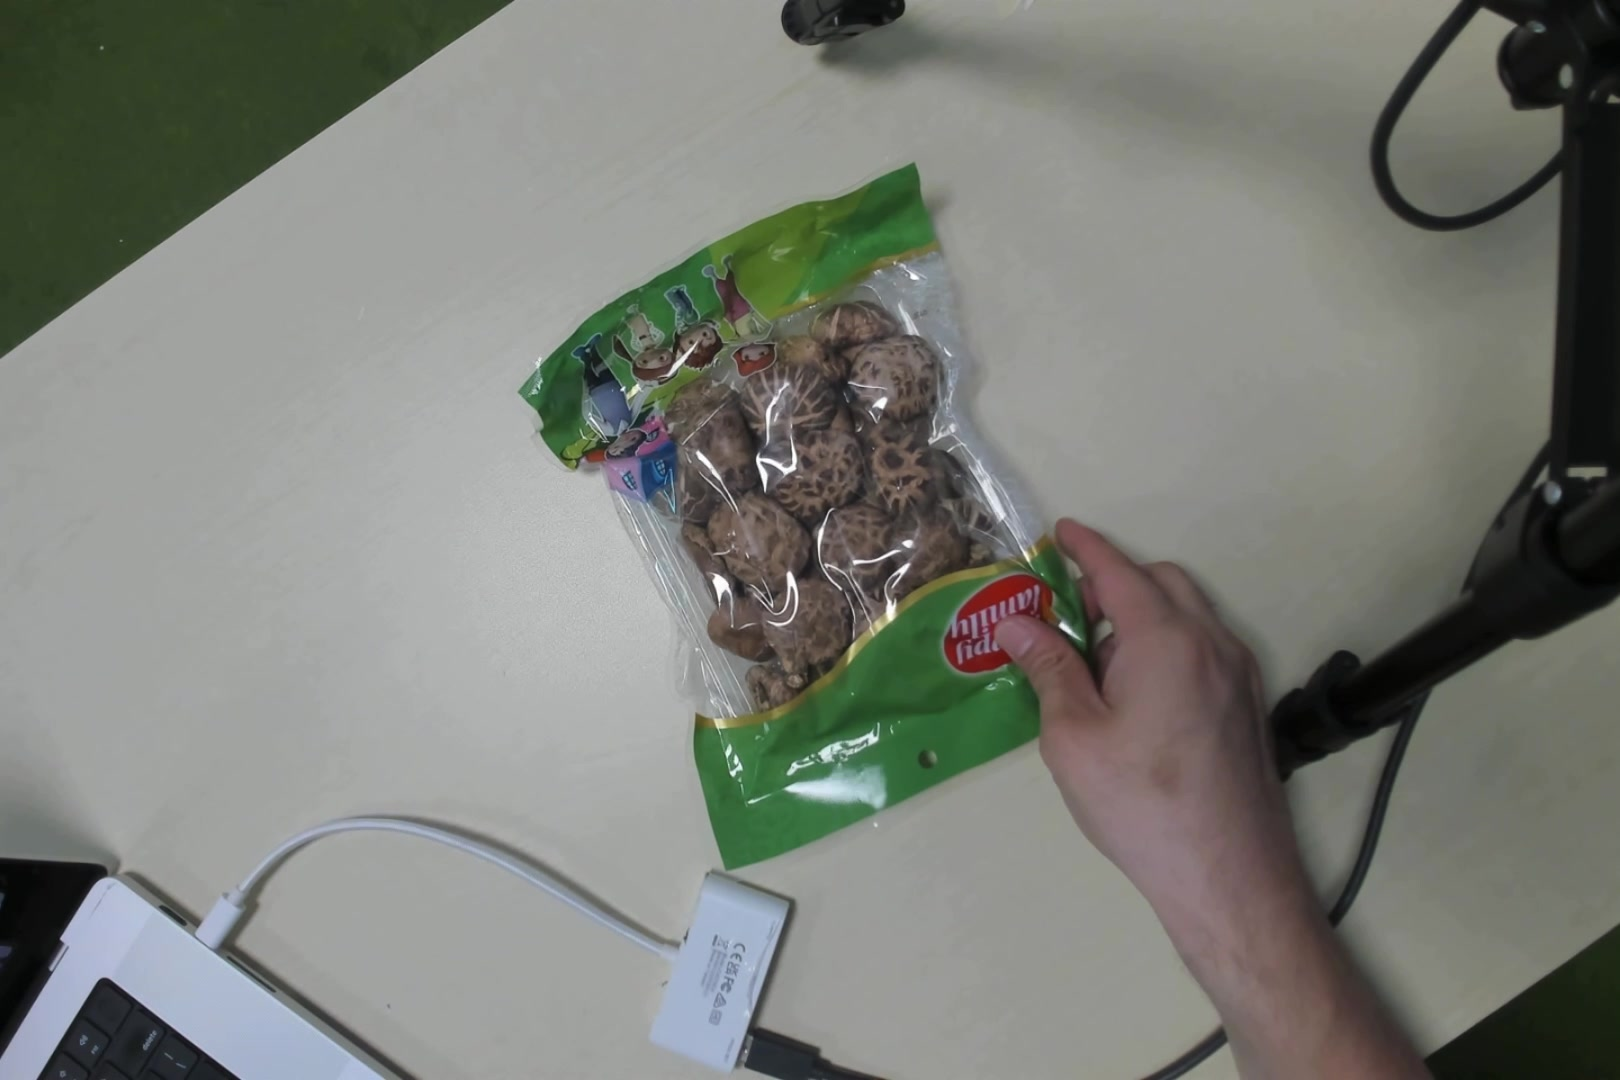OtherDriedFood_100-199g_NonHalal_NonHealthy: (599, 213, 1034, 804)
